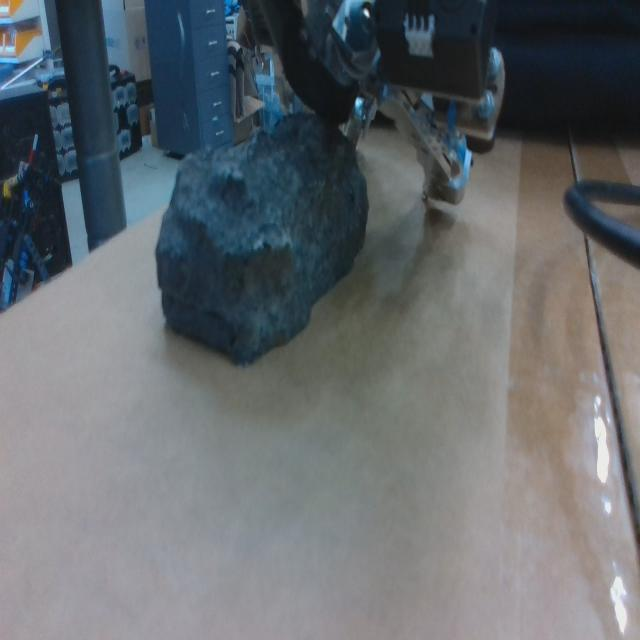stone: (154, 111, 370, 368)
